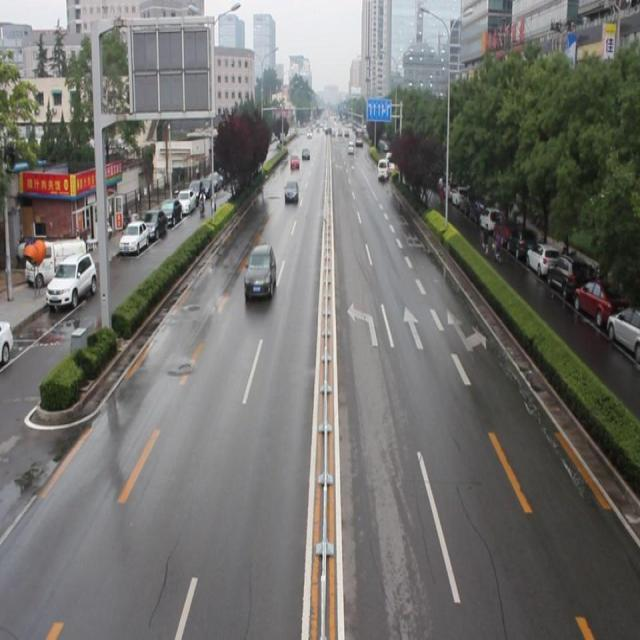car: (243, 242, 276, 296), (283, 178, 298, 205)
truck: (377, 157, 388, 181)
